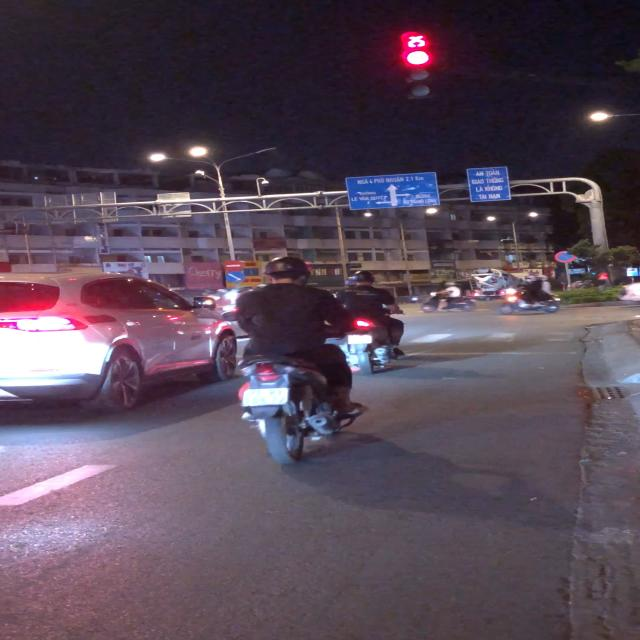Bien bao cam di nguoc chieu: (223, 259, 243, 272)
Bien bao huong phai di vong chuong ngai vat: (226, 272, 243, 282)
